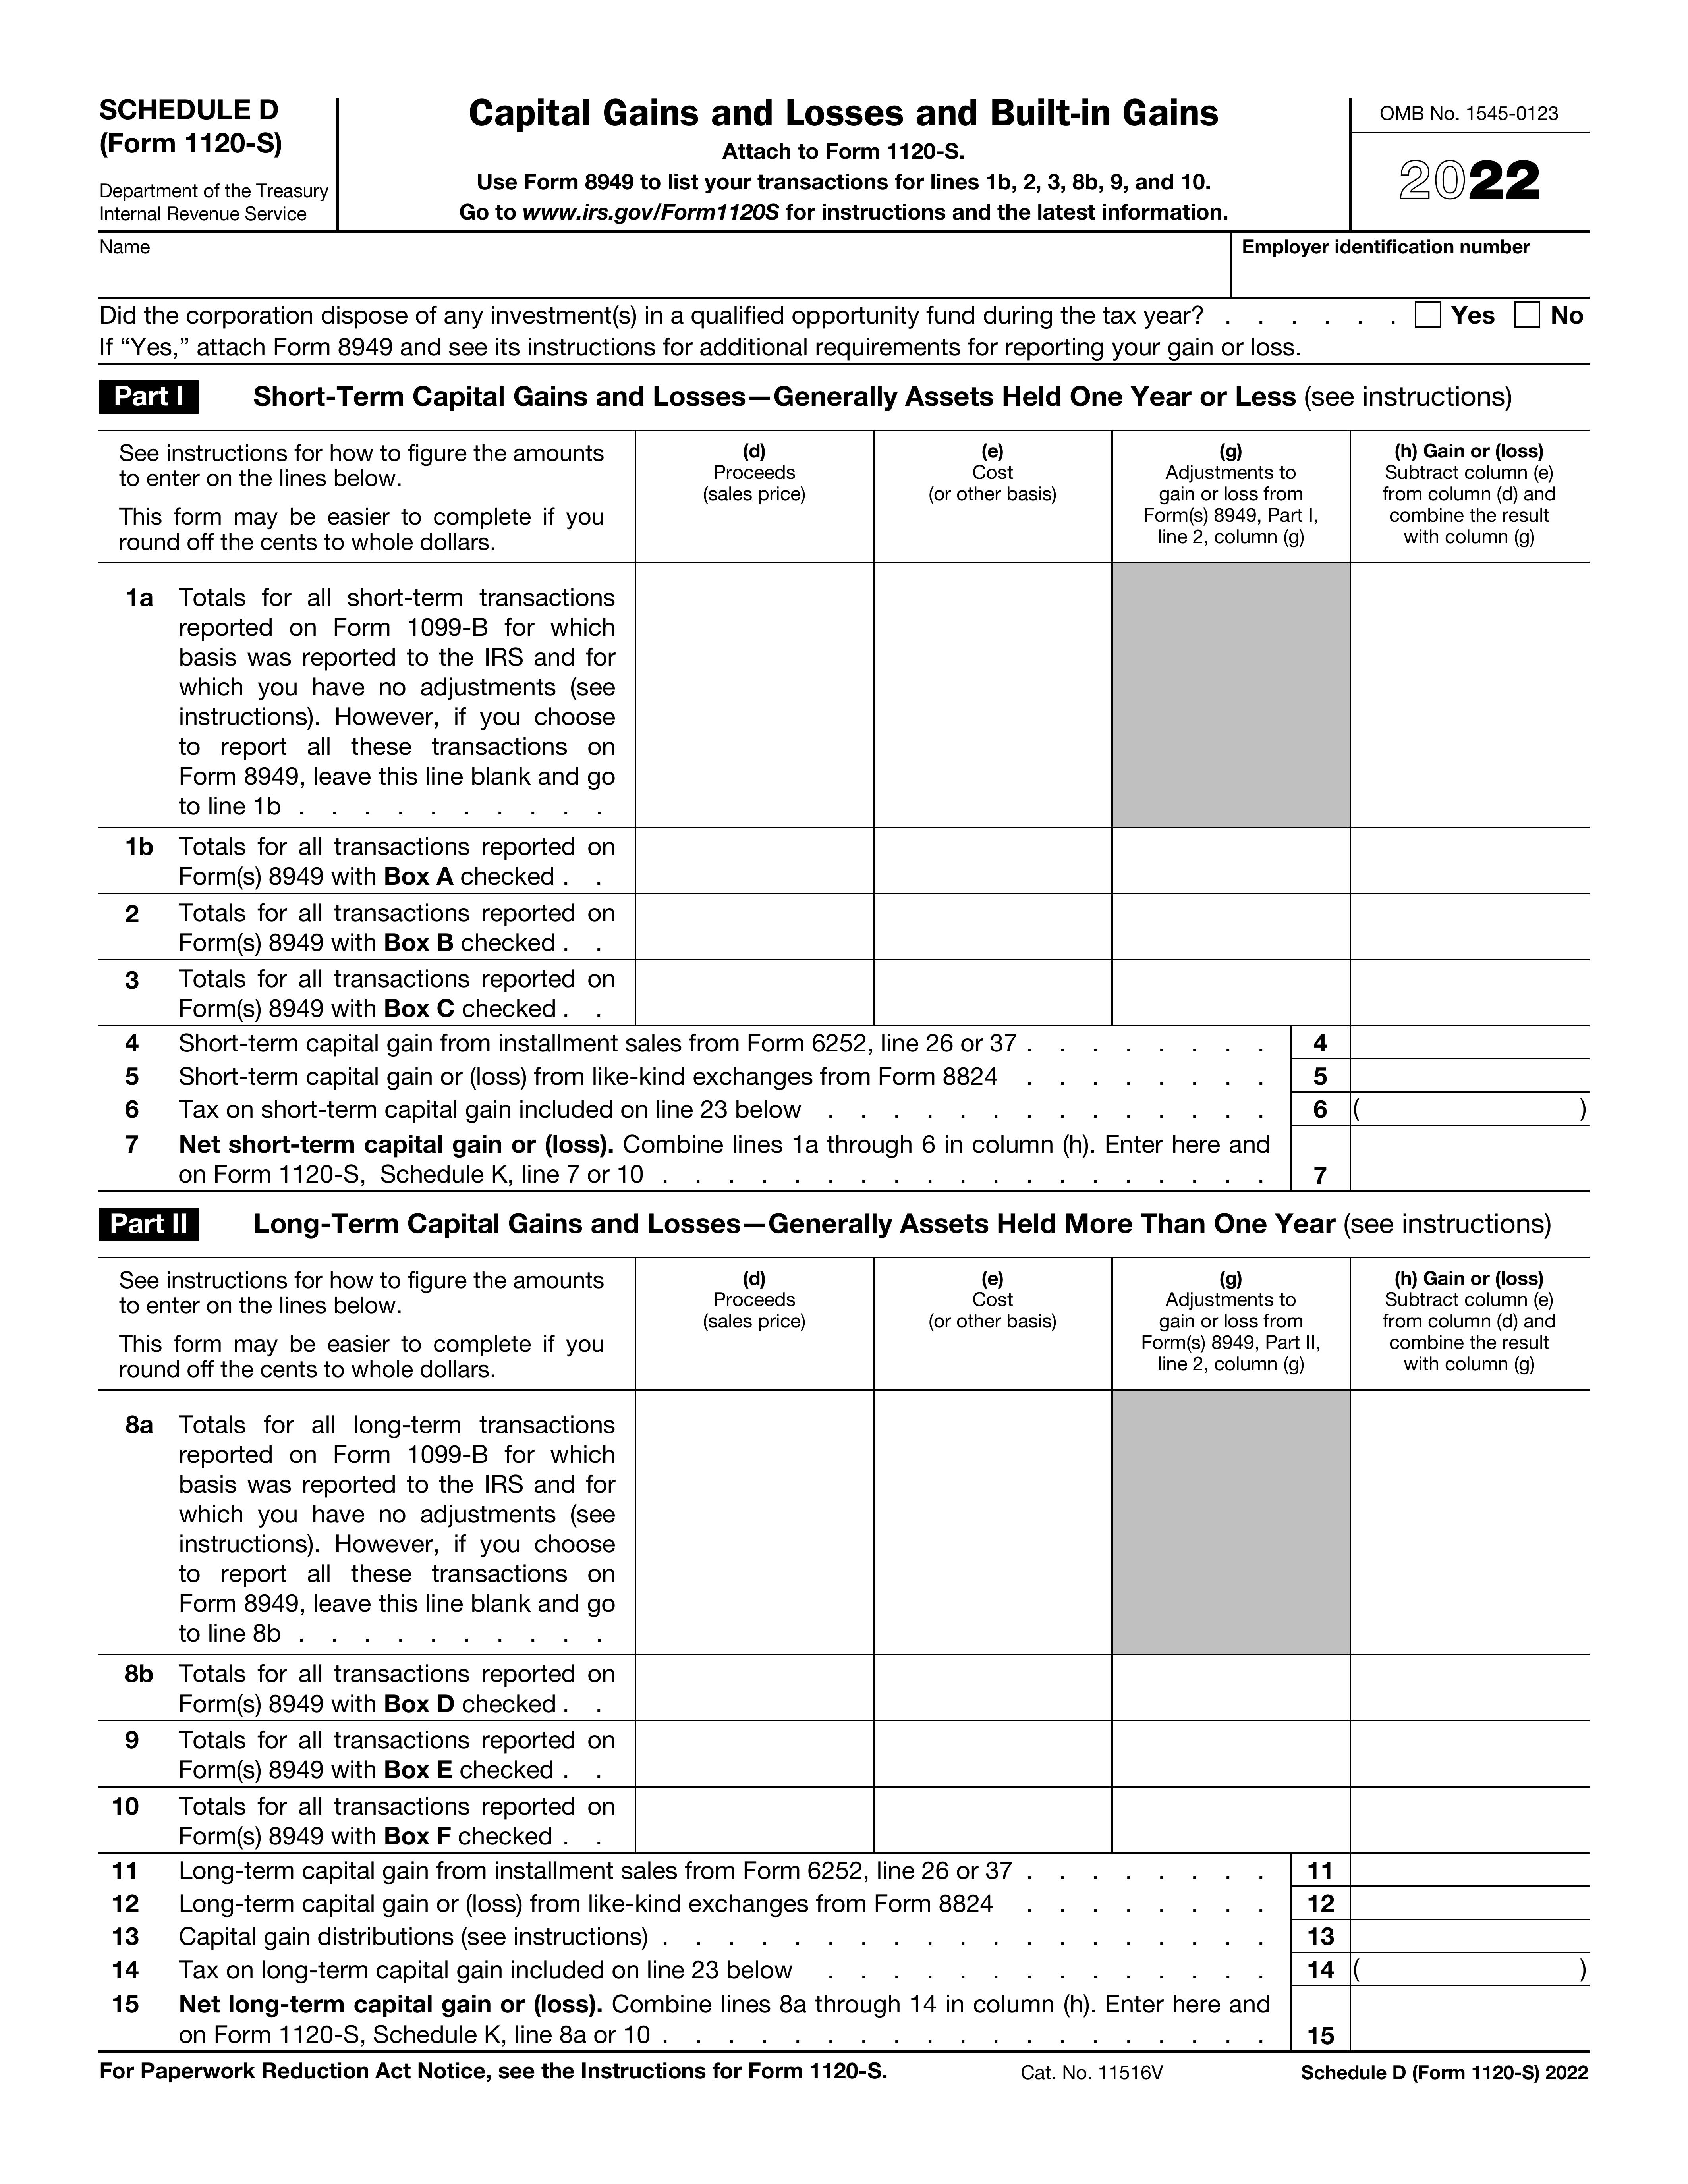form: (80, 78, 1612, 300)
table: (85, 1250, 1622, 2051), (83, 427, 1615, 1195)
